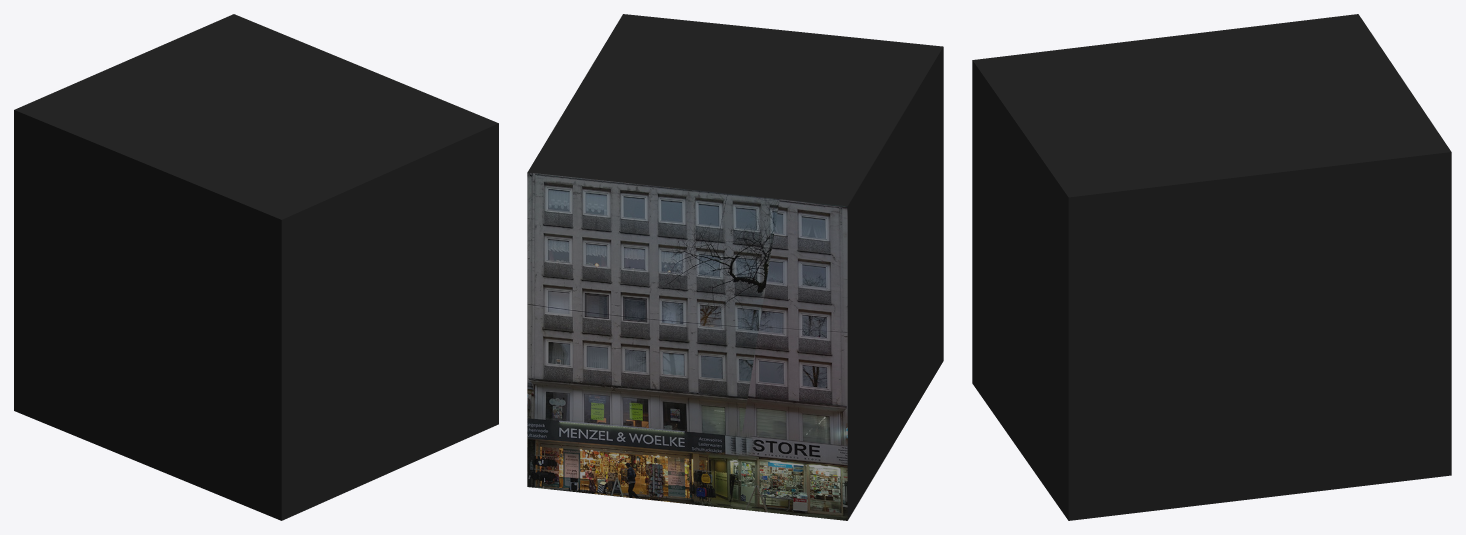
Rendered from B_Werth_62.FBX.
The picture shows the model from 3 angles, left to right: view 1: azimuth 30°, elevation 25°; view 2: azimuth 150°, elevation 25°; view 3: azimuth 270°, elevation 25°; orthographic projection. The views are drawn at different scales.
Visible parts, largest first — view 1: B_Werth_62; view 2: B_Werth_62_front, B_Werth_62; view 3: B_Werth_62.
Part boxes in pixels (x1=…): B_Werth_62: x1=14, y1=14, x2=498, y2=520; B_Werth_62_front: x1=527, y1=172, x2=847, y2=520; B_Werth_62: x1=528, y1=14, x2=943, y2=520; B_Werth_62: x1=972, y1=14, x2=1451, y2=520.
Bounding box in the file's own units: 1945 × 1600 × 2147.
2 materials, 1 textured.
